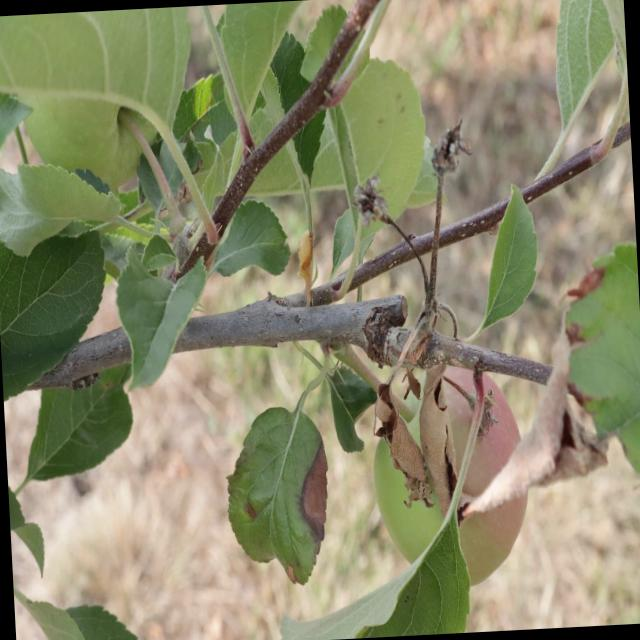-FireBlight-: (469, 289, 612, 526), (371, 362, 455, 518)
